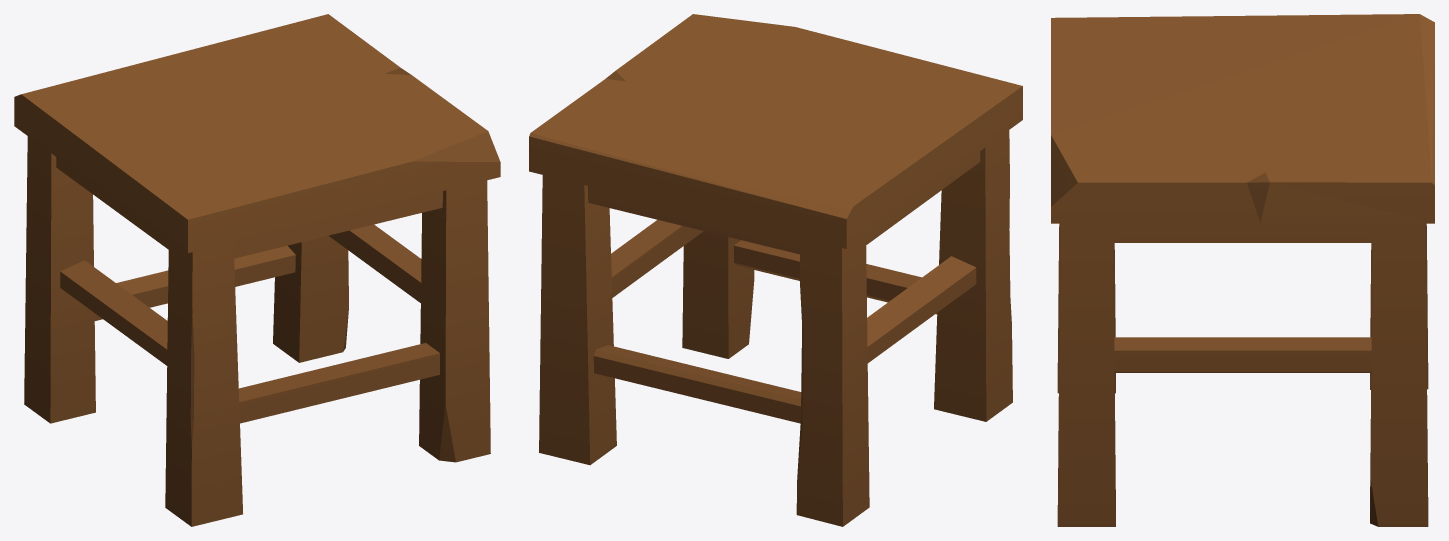
Rendered from Prop_Wooden_Stool_02.obj.
3 renders of one model, left to right at view 1: azimuth 30°, elevation 25°; view 2: azimuth 150°, elevation 25°; view 3: azimuth 270°, elevation 25°, orthographic. The views are drawn at different scales.
Parts seen in each view (by area): view 1: Prop_Wooden_Stool_02; view 2: Prop_Wooden_Stool_02; view 3: Prop_Wooden_Stool_02.
Part boxes in pixels (x1,y1,x2,y2): Prop_Wooden_Stool_02: [14, 14, 500, 526]; Prop_Wooden_Stool_02: [529, 14, 1022, 526]; Prop_Wooden_Stool_02: [1051, 14, 1434, 526].
Size of the model in its own units: 0.26 by 0.25 by 0.25.
Materials: 1 (1 with a texture image).
